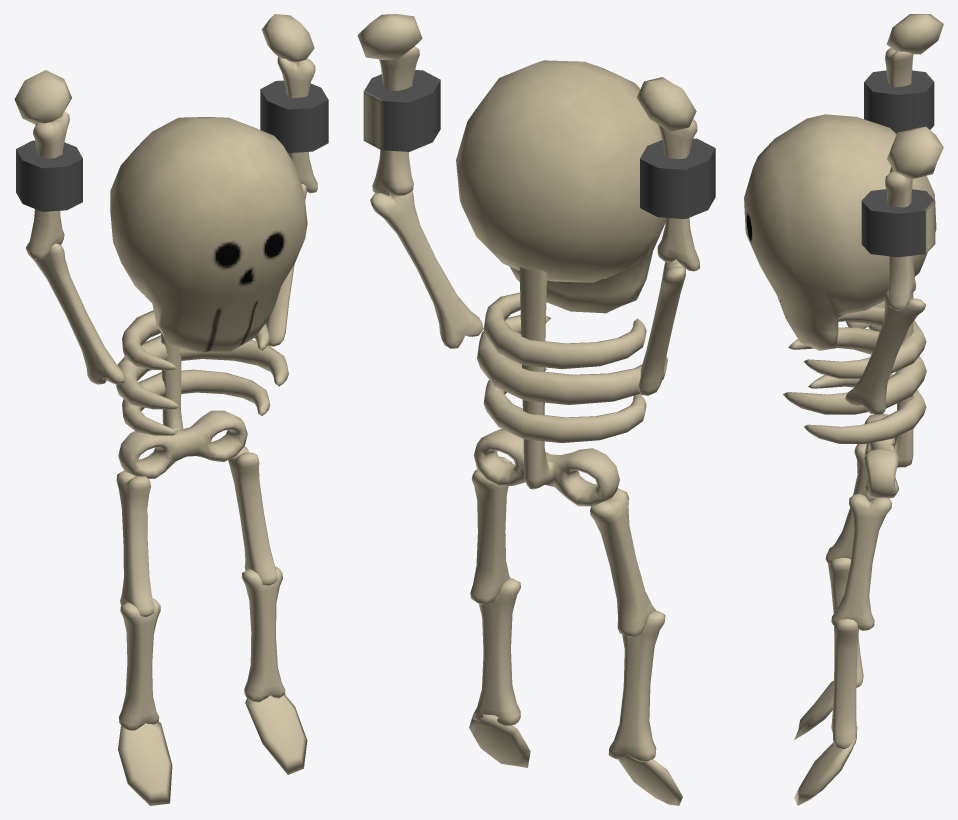
Rendered from skeleton hanging.fbx.
The picture shows the model from 3 angles, left to right: view 1: azimuth 30°, elevation 25°; view 2: azimuth 150°, elevation 25°; view 3: azimuth 270°, elevation 25°; orthographic projection. The views are drawn at different scales.
Visible parts, largest first — view 1: polySurface353; view 2: polySurface353; view 3: polySurface353.
Boxes of the visible parts, x1,y1,x2,y2 form: polySurface353: (14,14,328,805); polySurface353: (357,14,715,805); polySurface353: (744,14,943,805).
Size of the model in its own units: 0.6268 by 1.4 by 0.365.
1 material, 1 textured.
